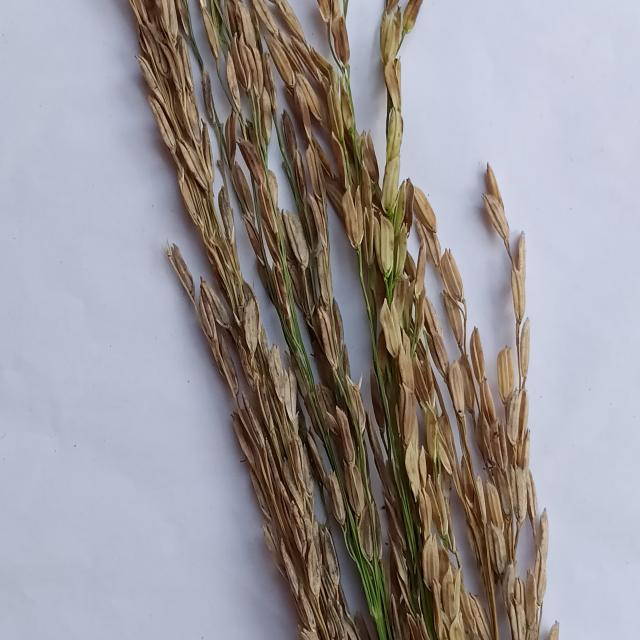Neck_Blast: (249, 0, 567, 640), (121, 0, 362, 640), (211, 0, 439, 640)
